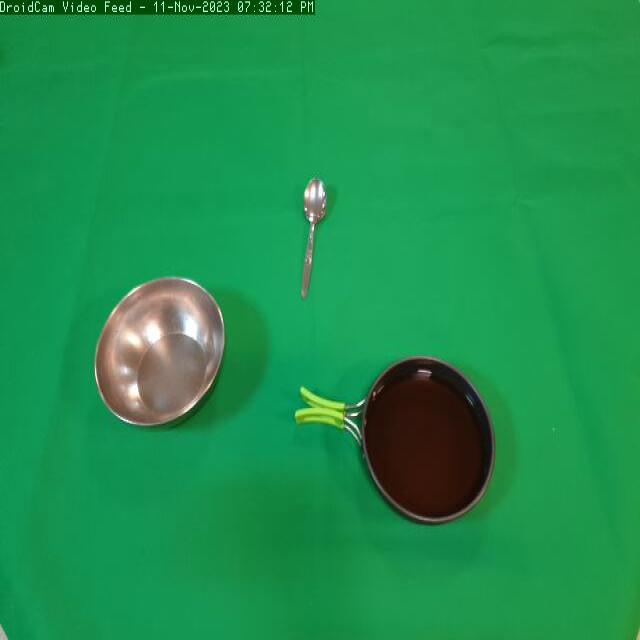bowl: (86, 272, 234, 439)
fullpan: (283, 341, 509, 540)
spoon: (292, 169, 337, 304)
